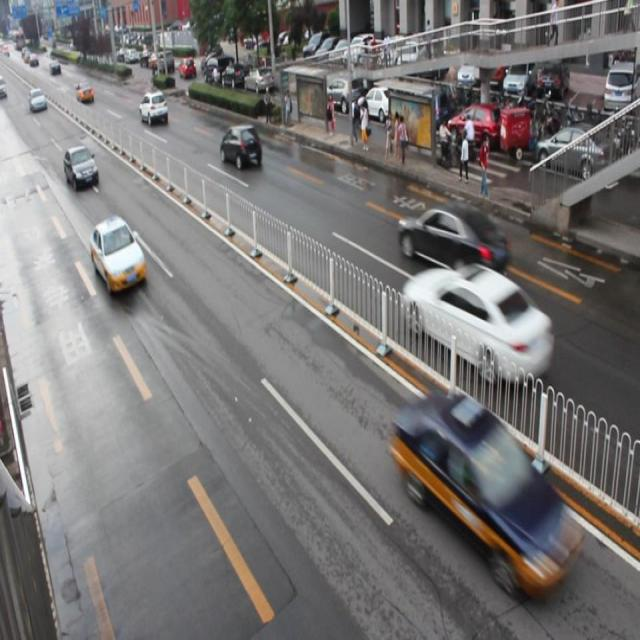car: (394, 393, 568, 578), (402, 262, 552, 386), (399, 203, 508, 277), (90, 215, 147, 295), (219, 122, 262, 172), (63, 144, 100, 189), (140, 89, 168, 126)
